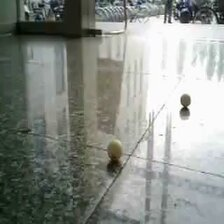w: (107, 139, 125, 159), (181, 94, 191, 107)
